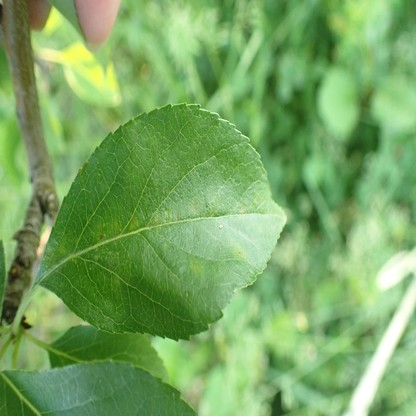powdery_mildew: (219, 120, 247, 153)
scab: (152, 206, 181, 227), (91, 221, 119, 242), (230, 243, 246, 258), (188, 256, 201, 273), (130, 217, 138, 231), (190, 198, 199, 209), (239, 201, 247, 213)
